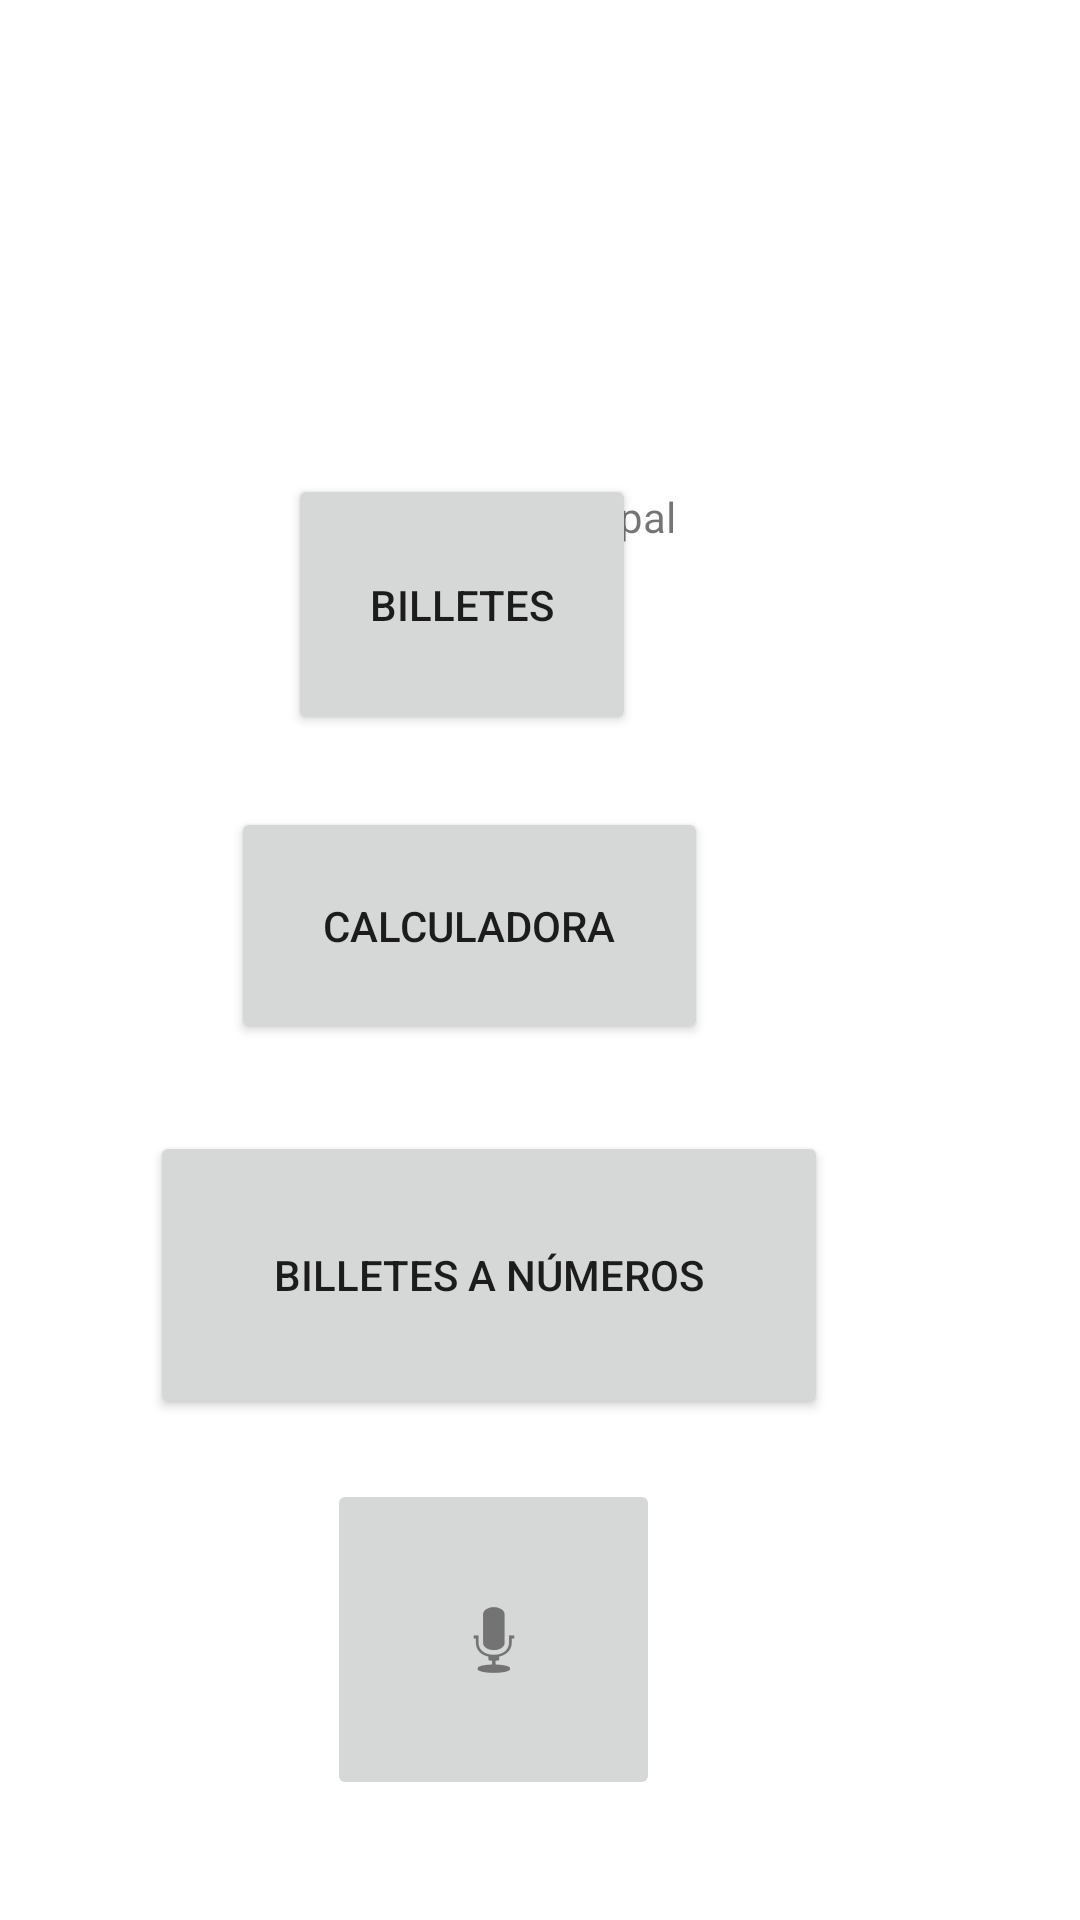

Icon click points for this 1080px×1920px phone screenshot, format (x=x, y=y):
speak now: (x=493, y=1639)
